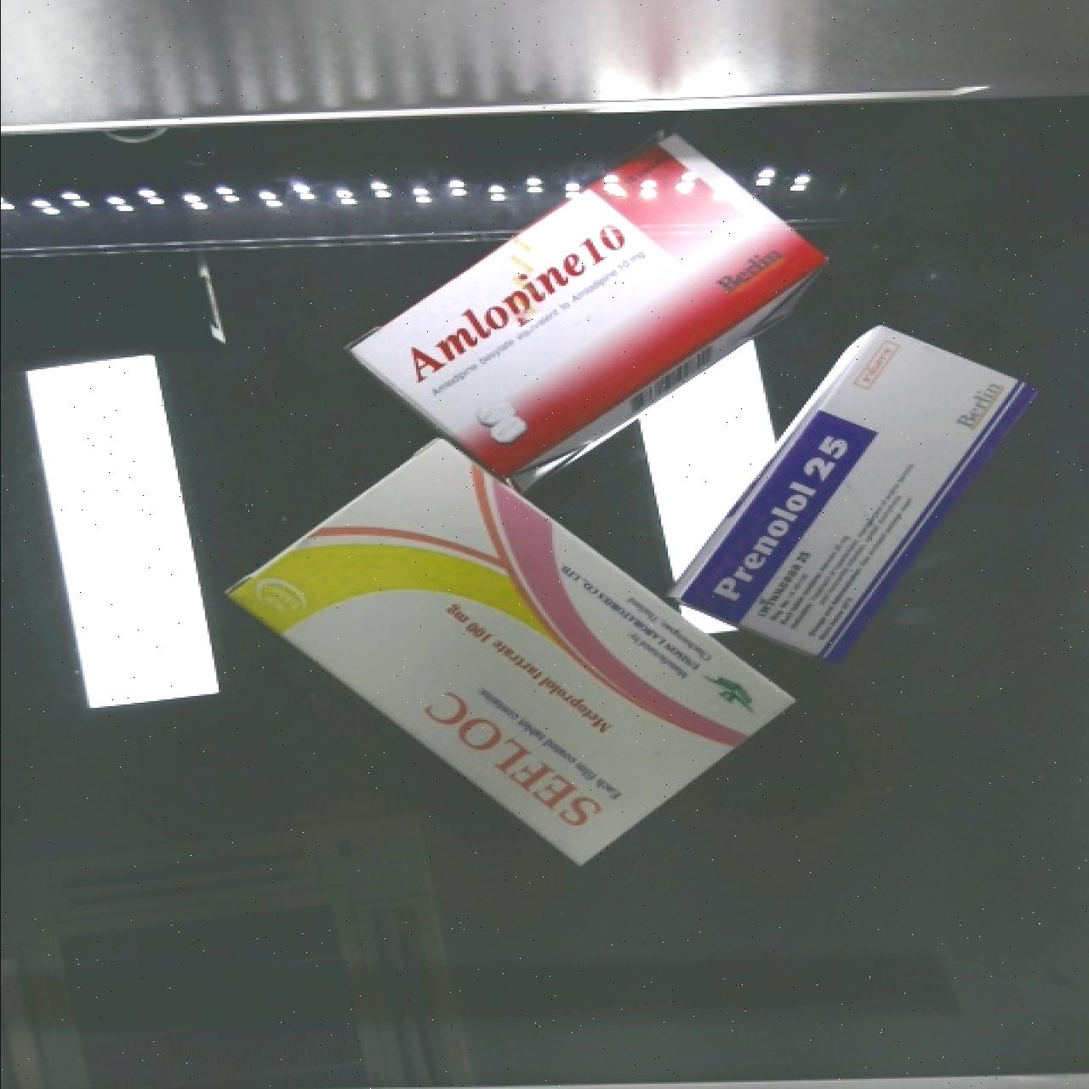medicine_label_obb: (372, 188, 658, 415), (398, 660, 637, 864), (691, 401, 873, 629)
